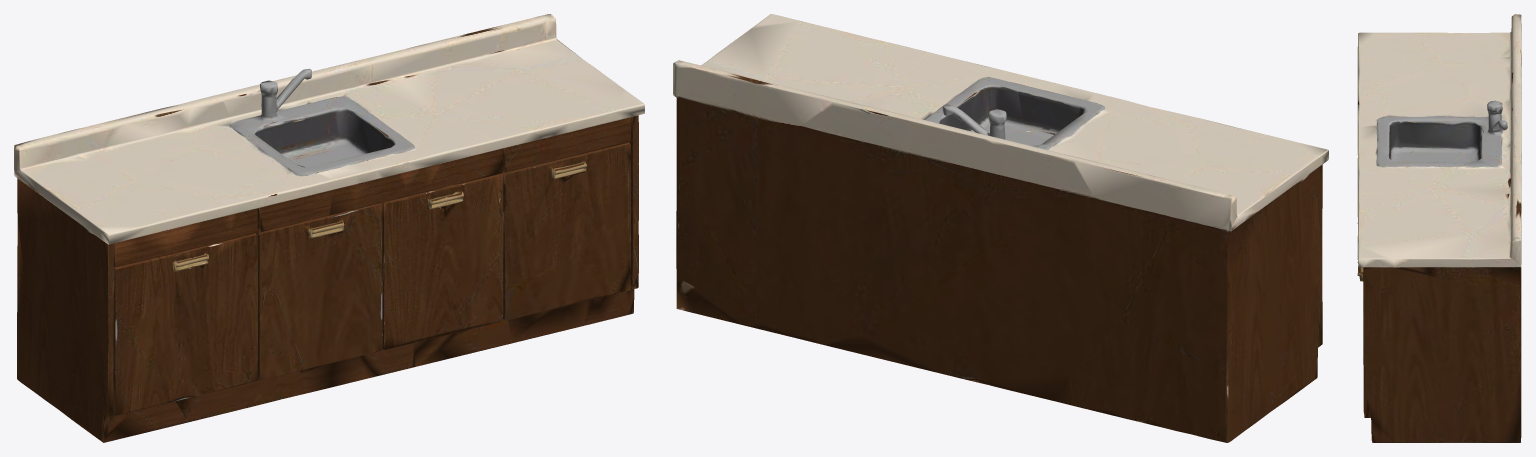
File: counter.glb
3 views of the same model, side by side, from view 1: azimuth 30°, elevation 25°; view 2: azimuth 150°, elevation 25°; view 3: azimuth 270°, elevation 25° (orthographic). The views are drawn at different scales.
Size of the model in its own units: 1.9 by 0.845 by 0.583.
1 material, 1 textured.
